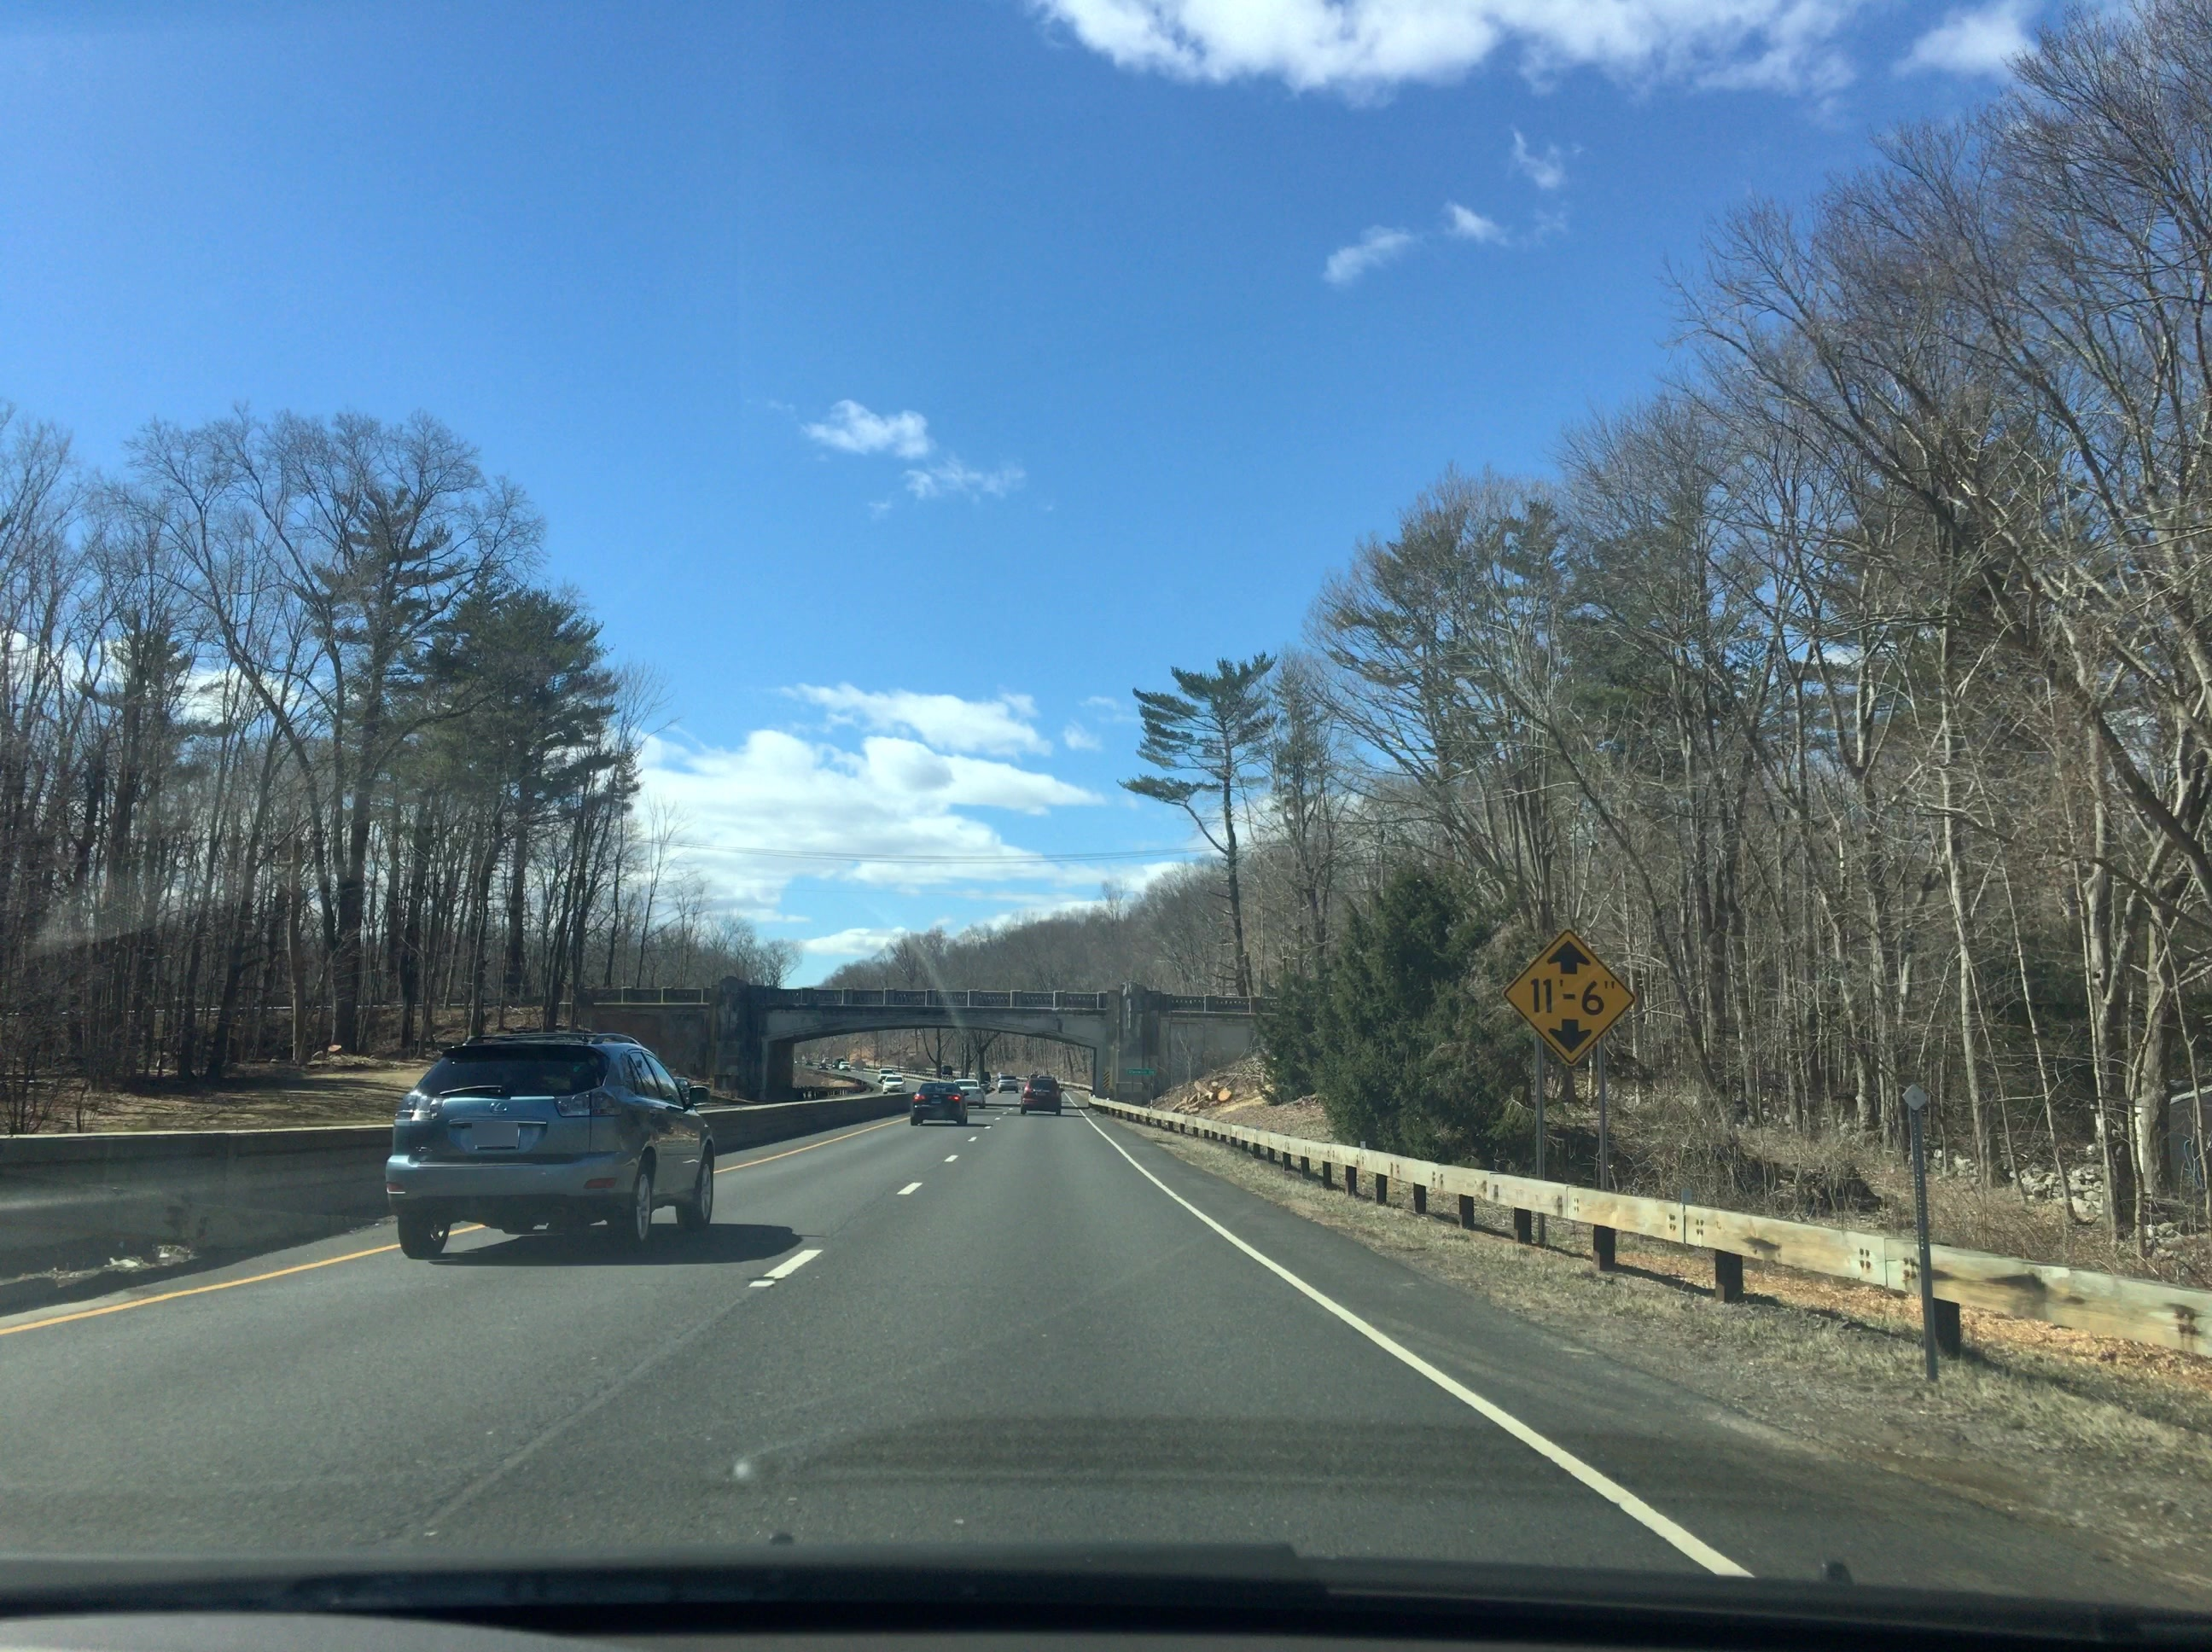low-clearance-sign: (1502, 927, 1636, 1067)
